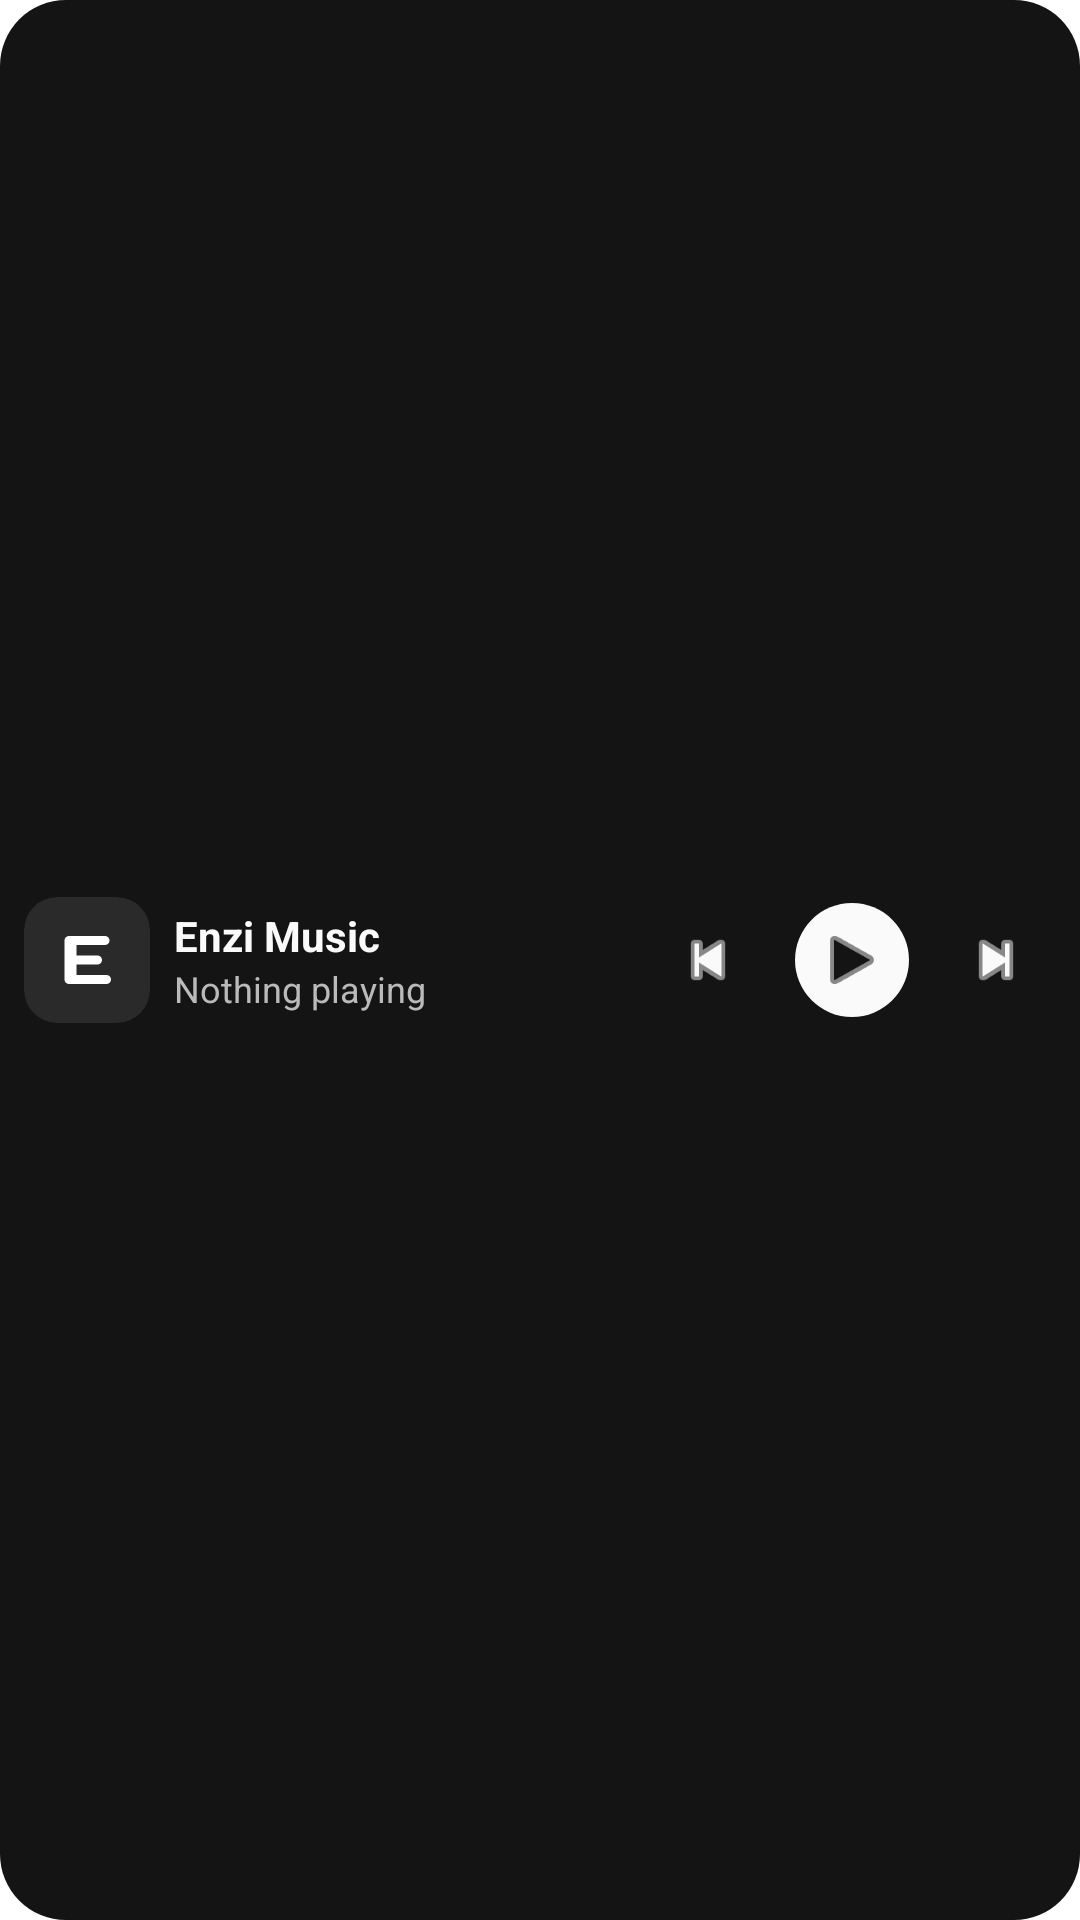

Screen size 1080 x 1920. Icon name, then its center in pixels as point (x, y):
Next track: point (996, 960)
Previous track: point (708, 960)
